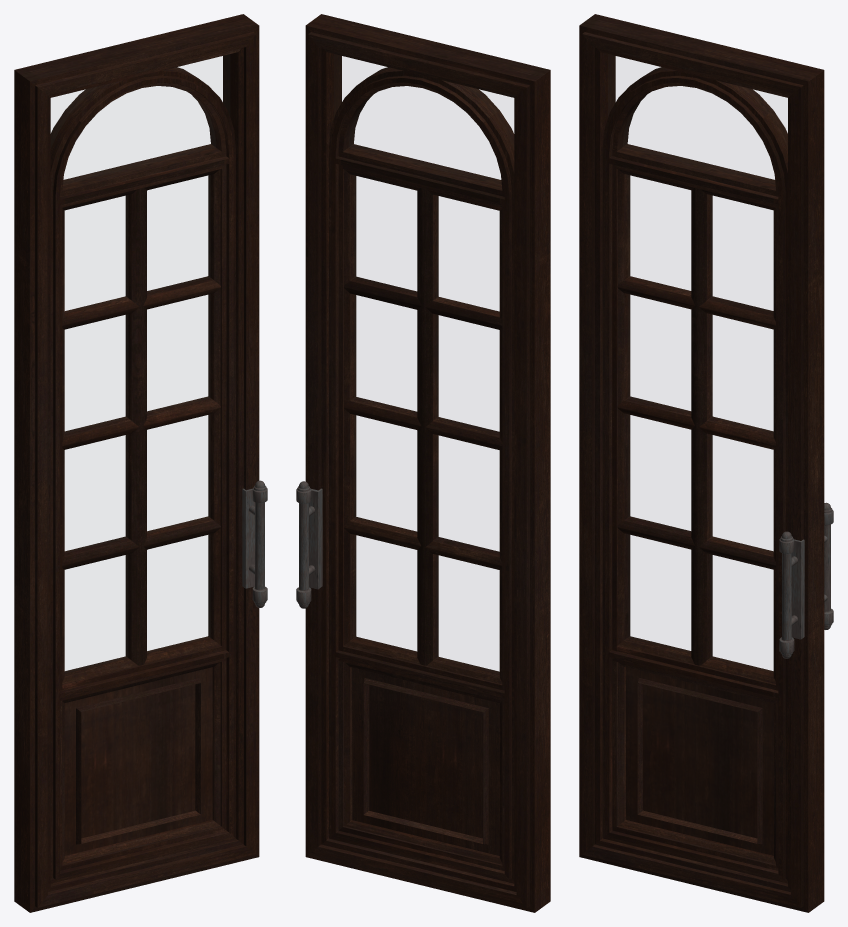
The model's file is SK6 DOOR A.fbx.
3 views of the same model, side by side, from view 1: azimuth 30°, elevation 25°; view 2: azimuth 150°, elevation 25°; view 3: azimuth 330°, elevation 25° (orthographic).
Parts seen in each view (by area): view 1: SK6 DOOR A; view 2: SK6 DOOR A; view 3: SK6 DOOR A.
Part boxes in pixels (box(x1,y1,x2,y2)): SK6 DOOR A: box(14, 14, 267, 912); SK6 DOOR A: box(296, 14, 550, 912); SK6 DOOR A: box(579, 14, 833, 912).
Size of the model in its own units: 76.08 by 264 by 26.9.
